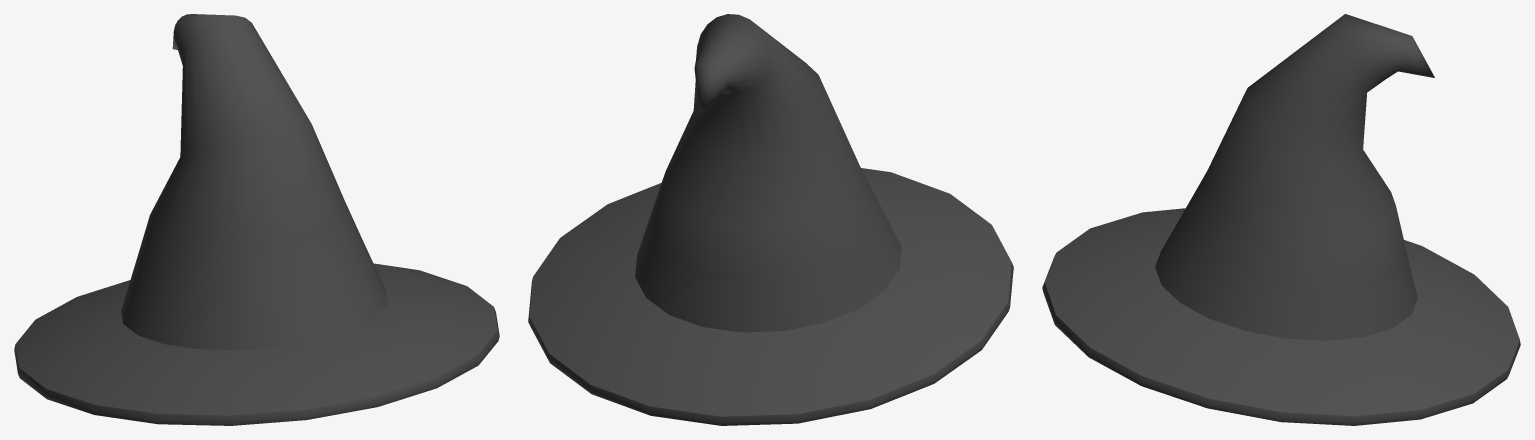
Rendered from wizard_Hat.fbx.
The picture shows the model from 3 angles, left to right: view 1: azimuth 30°, elevation 25°; view 2: azimuth 150°, elevation 25°; view 3: azimuth 270°, elevation 25°; orthographic projection.
Visible parts, largest first — view 1: wizard_Hat; view 2: wizard_Hat; view 3: wizard_Hat.
Boxes of the visible parts, x1,y1,x2,y2 form: wizard_Hat: (14,14,499,425); wizard_Hat: (528,14,1013,425); wizard_Hat: (1042,14,1520,425).
Bounding box in the file's own units: 2.71 × 2.06 × 2.69.
